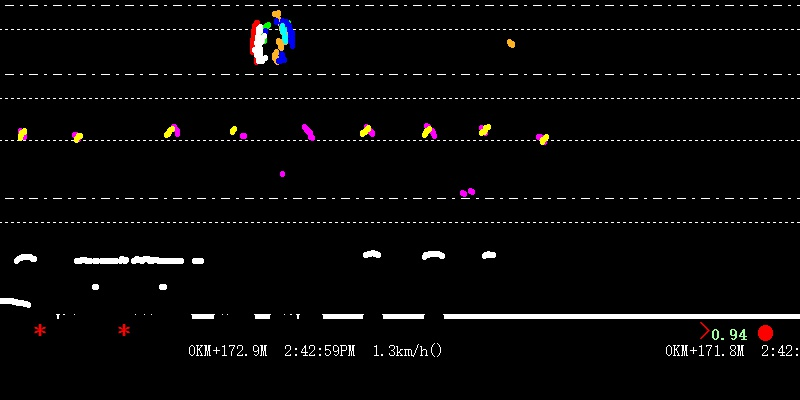J: (246, 1, 295, 68)
circle: (756, 323, 777, 342)
star: (116, 321, 132, 339), (32, 321, 48, 338)
